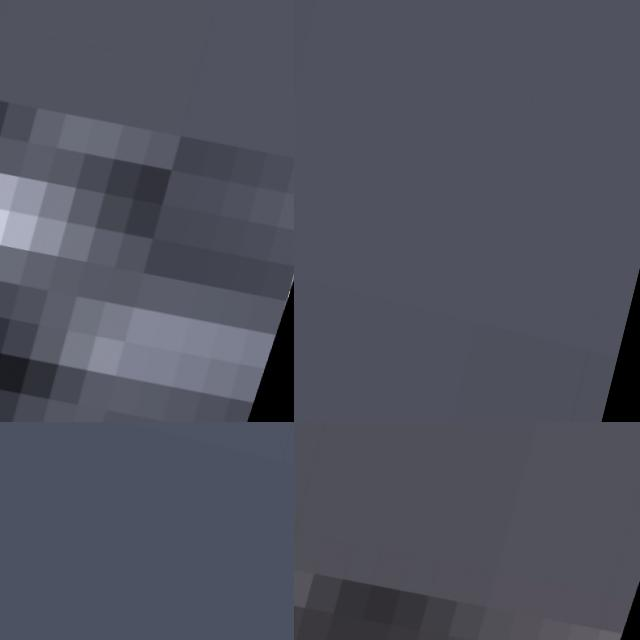drone: (0, 0, 294, 422), (294, 422, 640, 640)
